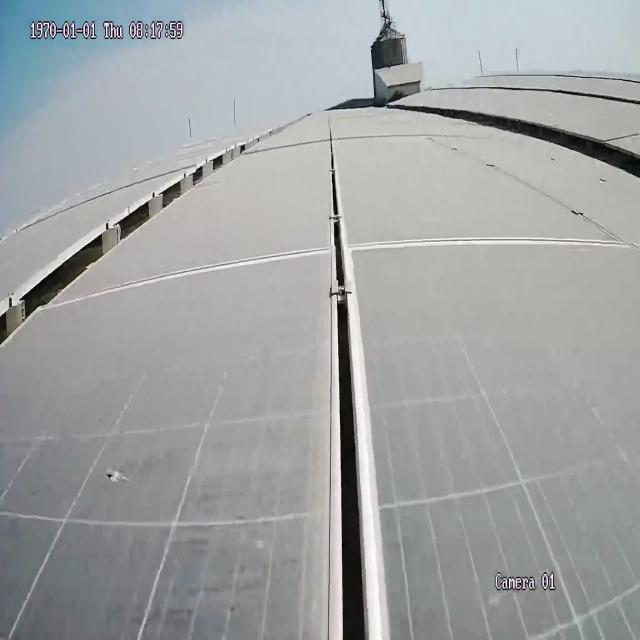interior panel: (62, 117, 624, 630)
outher panel: (0, 133, 265, 349), (418, 104, 636, 181)
